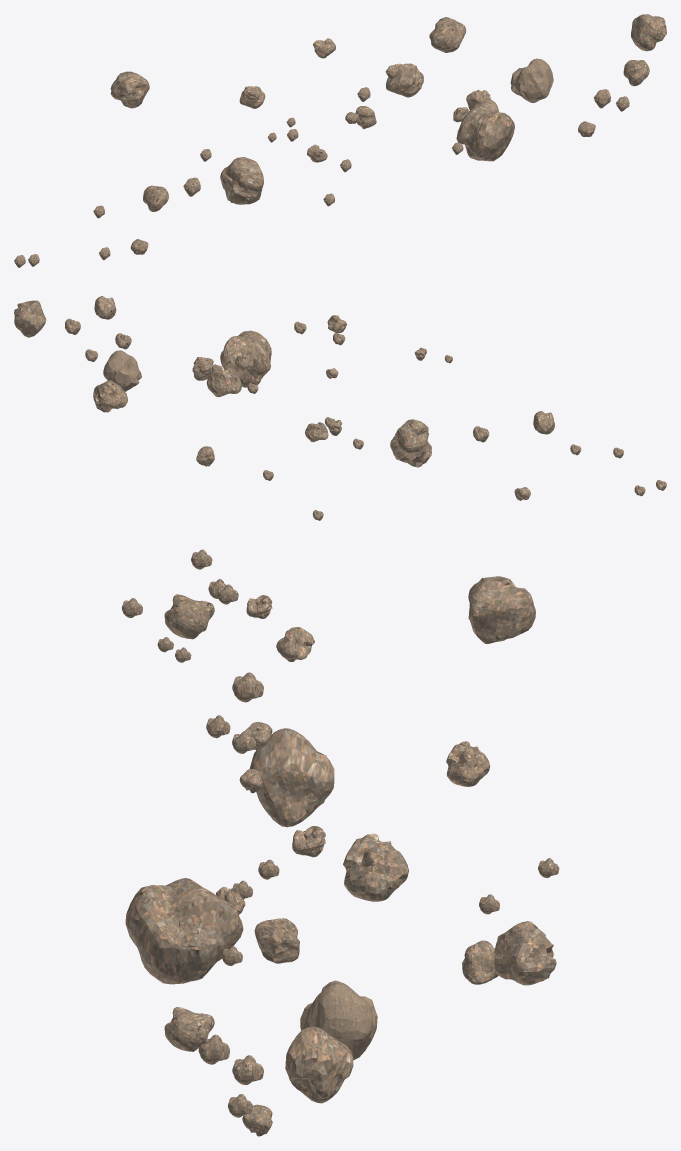
The model's file is debris-transformed.glb.
3 renders of one model, top to bottom at view 1: azimuth 30°, elevation 25°; view 2: azimuth 150°, elevation 25°; view 3: azimuth 270°, elevation 25°, orthographic. The views are drawn at different scales.
Parts seen in each view (by area): view 1: rock_07, rock_05, rock_01, Icosphere.085, rock_04, Icosphere.001, Icosphere.008, Icosphere.049, Icosphere.083; view 2: rock_07, rock_01, rock_04, Icosphere.085, Icosphere.001, Icosphere.008, rock_05, Icosphere.049, Icosphere.083, rock_03, Icosphere.108; view 3: rock_07, rock_05, rock_04, Icosphere.085, rock_01, Icosphere.008, Icosphere.001, rock_03, Icosphere.083, Icosphere.049, Icosphere.108, Icosphere.109 (+2 smaller).
Part boxes in pixels (left/top/right/bottom): rock_07: left=456, top=98, right=514, bottom=161; rock_05: left=220, top=157, right=263, bottom=204; rock_01: left=510, top=58, right=553, bottom=102; Icosphere.085: left=110, top=71, right=149, bottom=108; rock_04: left=631, top=14, right=666, bottom=51; Icosphere.001: left=429, top=17, right=466, bottom=52; Icosphere.008: left=386, top=63, right=423, bottom=97; Icosphere.049: left=623, top=60, right=649, bottom=86; Icosphere.083: left=143, top=185, right=168, bottom=211; rock_07: left=220, top=330, right=271, bottom=387; rock_01: left=103, top=350, right=141, bottom=391; rock_04: left=14, top=300, right=46, bottom=337; Icosphere.085: left=396, top=419, right=428, bottom=453; Icosphere.001: left=93, top=380, right=127, bottom=412; Icosphere.008: left=206, top=367, right=241, bottom=397; rock_05: left=390, top=430, right=431, bottom=467; Icosphere.049: left=94, top=296, right=116, bottom=319; Icosphere.083: left=533, top=411, right=554, bottom=434; rock_03: left=192, top=357, right=213, bottom=380; Icosphere.108: left=305, top=422, right=328, bottom=442; rock_07: left=125, top=878, right=243, bottom=984; rock_05: left=249, top=728, right=334, bottom=827; rock_04: left=285, top=1026, right=353, bottom=1103; Icosphere.085: left=468, top=576, right=535, bottom=643; rock_01: left=300, top=980, right=377, bottom=1060; Icosphere.008: left=343, top=833, right=408, bottom=901; Icosphere.001: left=494, top=921, right=556, bottom=985; rock_03: left=254, top=918, right=299, bottom=963; Icosphere.083: left=164, top=594, right=214, bottom=639; Icosphere.049: left=164, top=1007, right=214, bottom=1051; Icosphere.108: left=446, top=741, right=490, bottom=786; Icosphere.109: left=462, top=940, right=498, bottom=984.
Bounding box in the file's own units: 248 × 56.28 × 75.7.
1 material, 1 textured.
